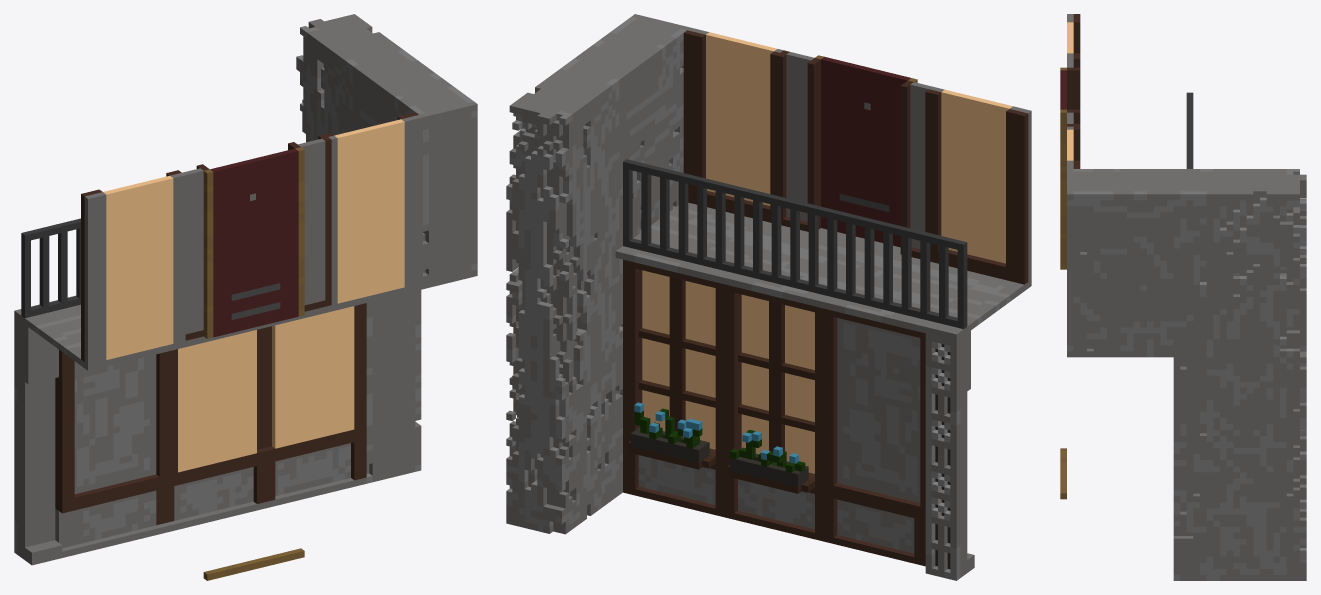
File: MapFinalV1-76.obj
3 renders of one model, left to right at view 1: azimuth 30°, elevation 25°; view 2: azimuth 150°, elevation 25°; view 3: azimuth 270°, elevation 25°, orthographic. The views are drawn at different scales.
Size of the model in its own units: 6.4 by 6.4 by 3.7.
Materials: 1 (1 with a texture image).
